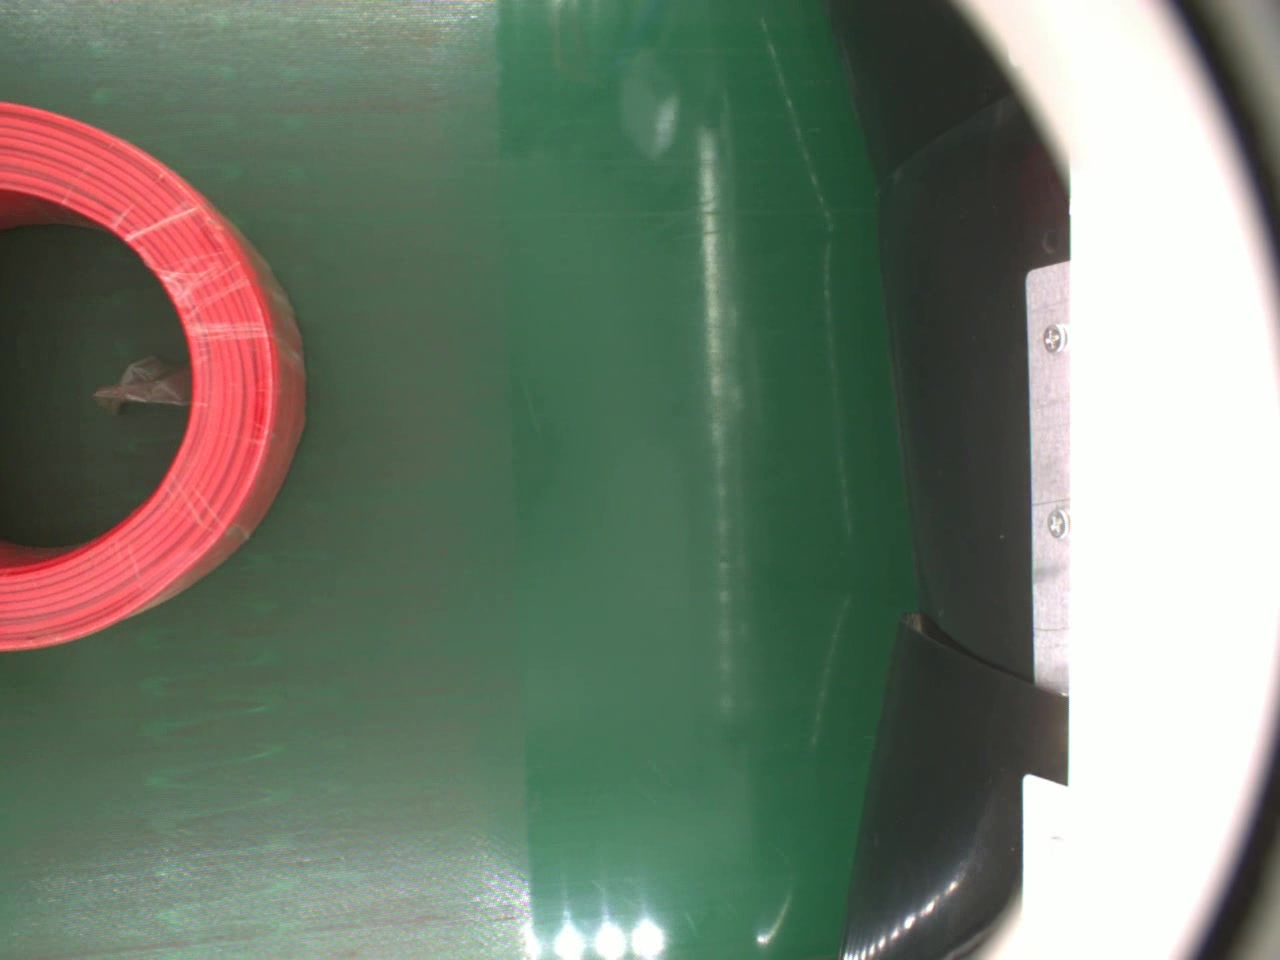red: (0, 97, 309, 646)
